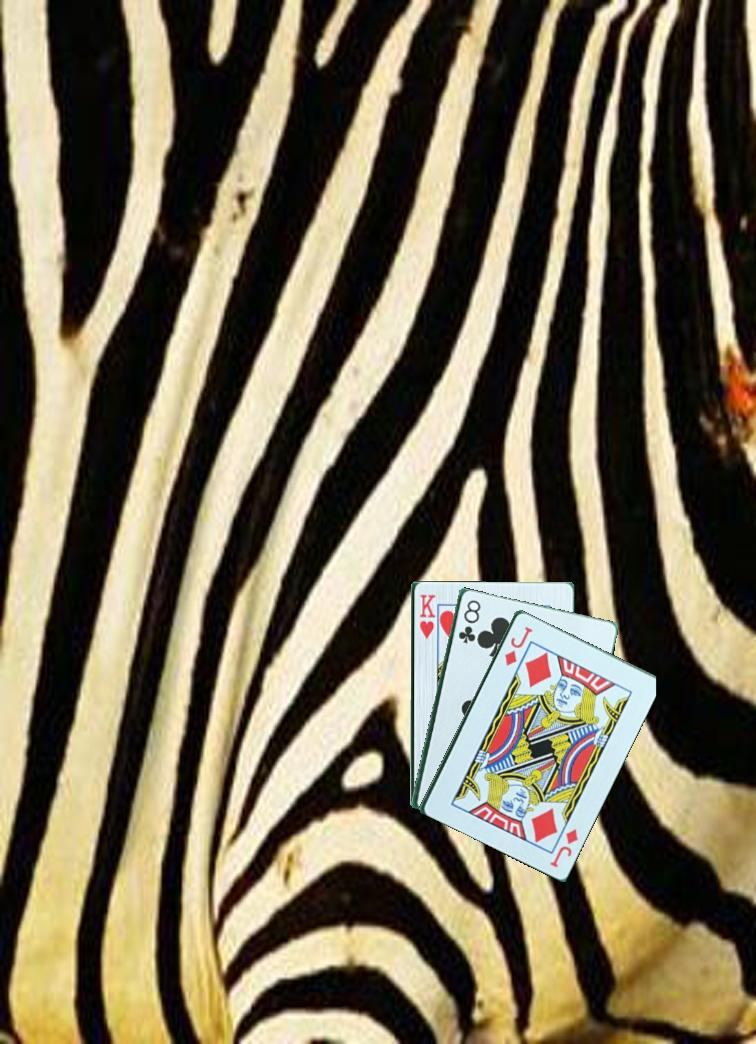8c: (454, 596, 482, 646)
jd: (546, 825, 581, 870), (501, 622, 535, 668)
kh: (415, 590, 436, 643)
